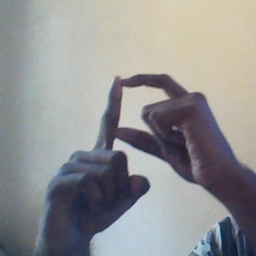D: (62, 64, 206, 189)
